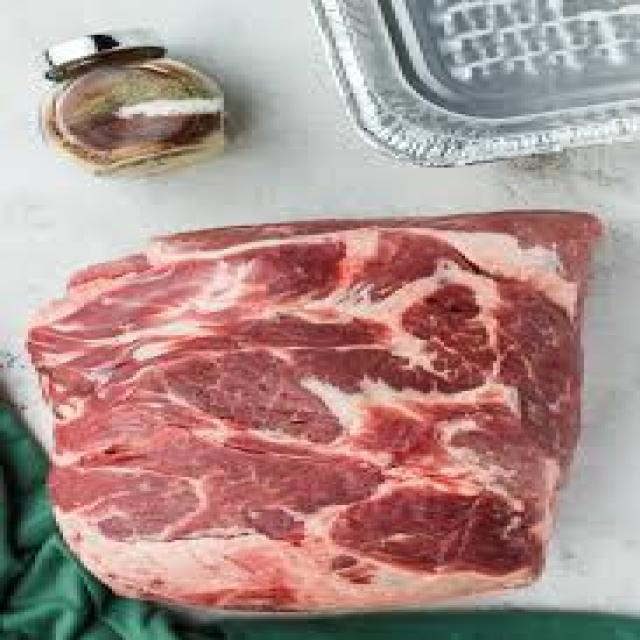Pork: (28, 211, 601, 609)
